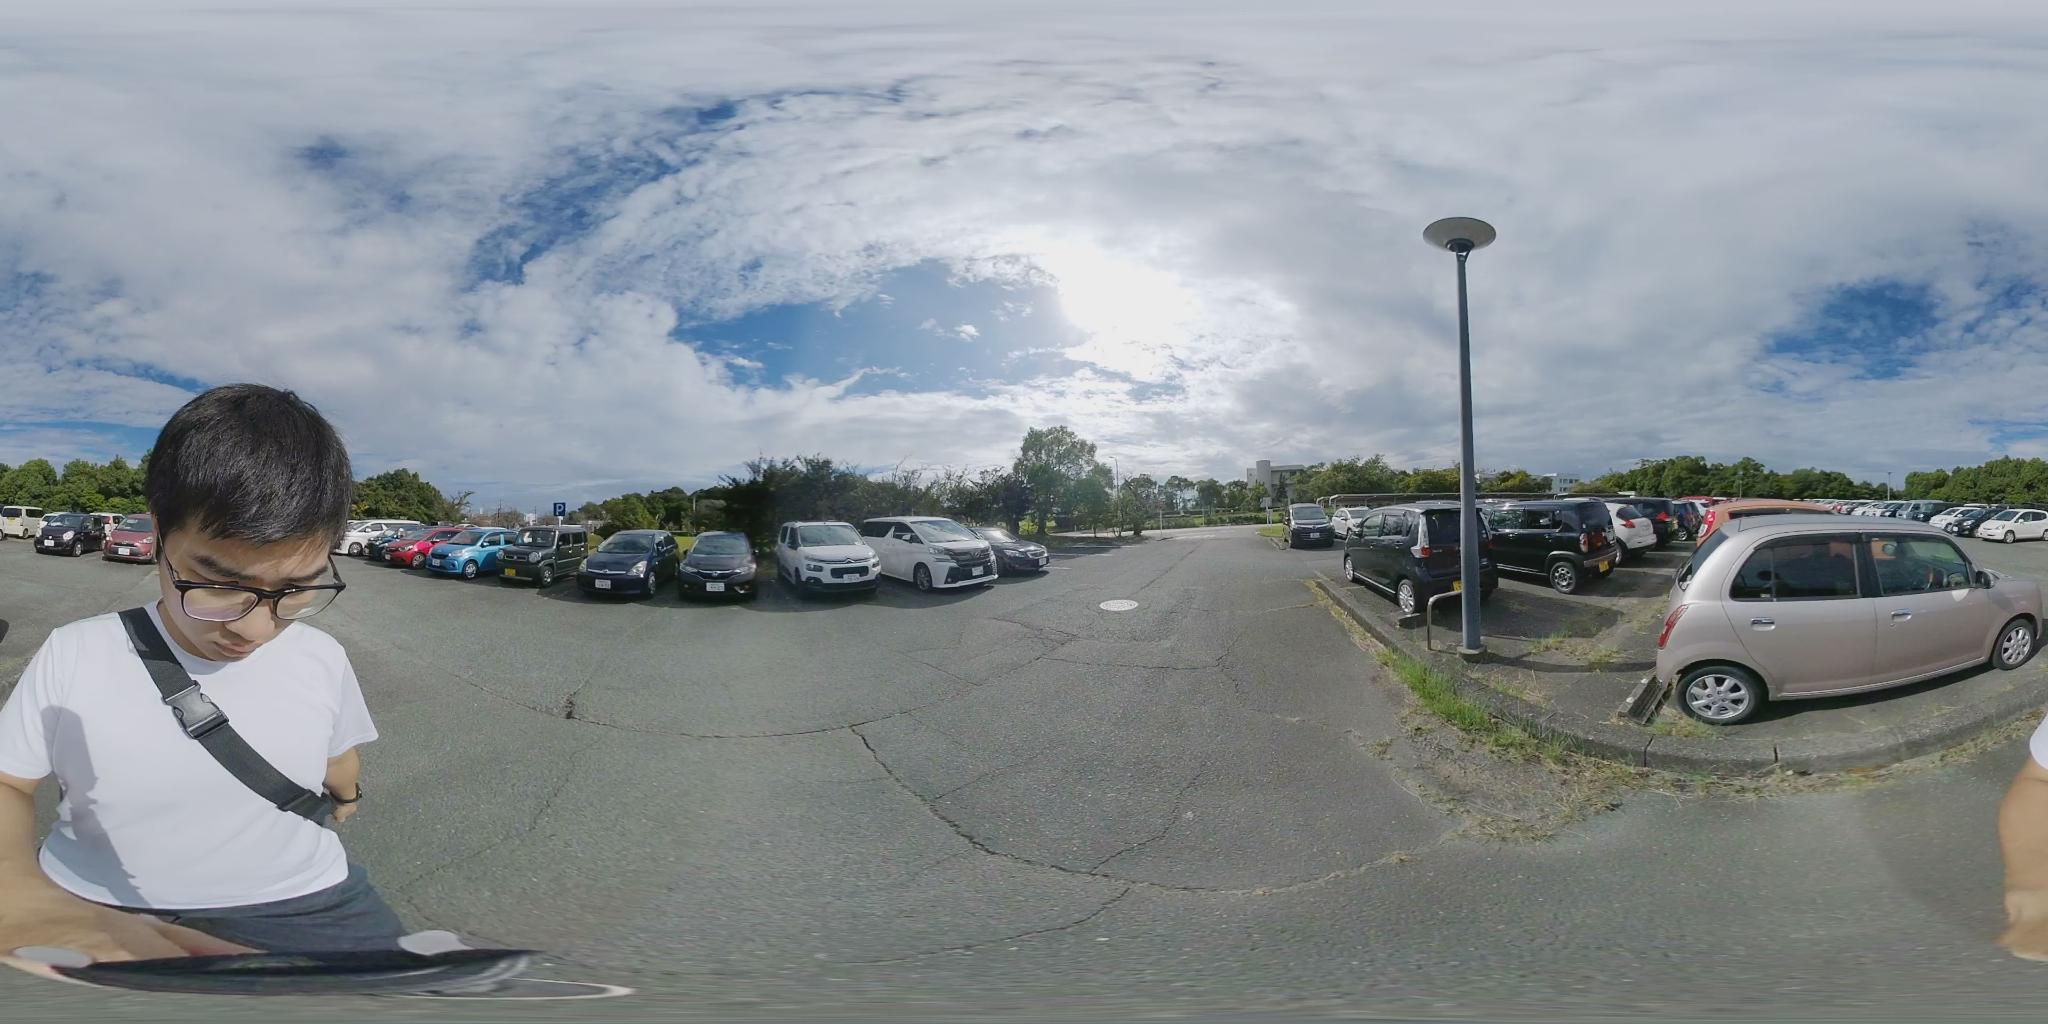car: (1624, 511, 2044, 725), (1345, 499, 1633, 605), (853, 516, 1003, 588), (776, 520, 884, 597), (401, 528, 525, 580), (577, 533, 673, 600), (1558, 498, 1680, 550), (671, 533, 760, 603), (383, 525, 465, 568), (346, 519, 435, 558), (103, 516, 163, 564), (34, 515, 102, 555), (1975, 509, 2044, 545), (986, 541, 1050, 577), (1288, 508, 1340, 549), (1937, 504, 1997, 532)
